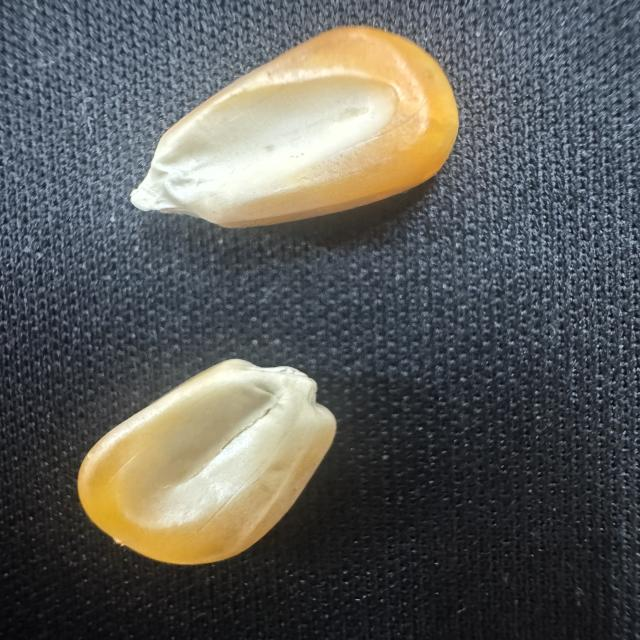Good-Seed: (127, 21, 464, 231), (71, 352, 343, 570)
